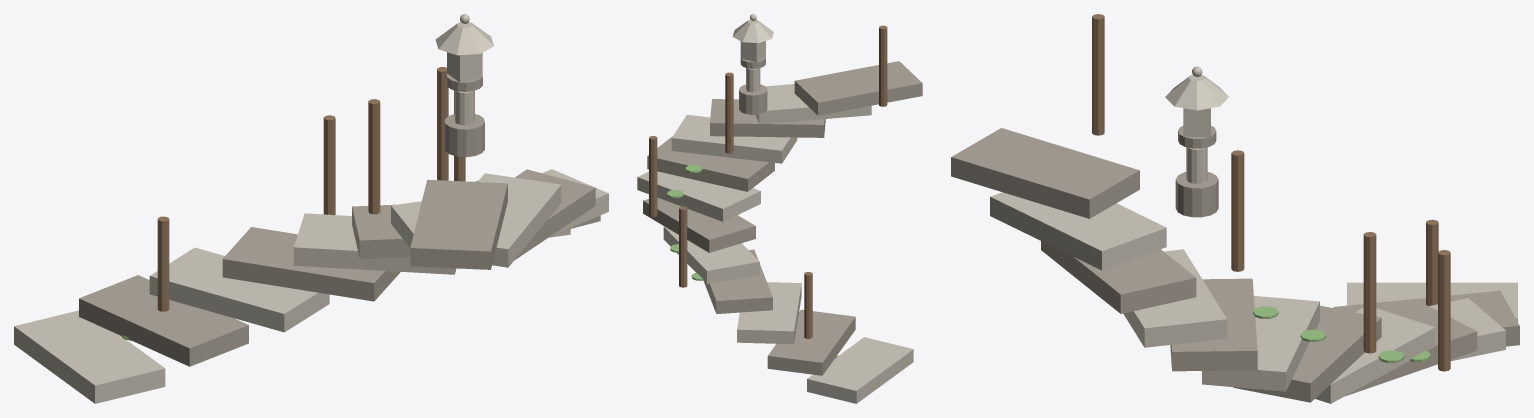
The model's file is stone_curve_steps.glb.
The picture shows the model from 3 angles, left to right: view 1: azimuth 30°, elevation 25°; view 2: azimuth 150°, elevation 25°; view 3: azimuth 270°, elevation 25°; orthographic projection. The views are drawn at different scales.
Visible parts, largest first — view 1: stone_curve_steps; view 2: stone_curve_steps; view 3: stone_curve_steps.
Boxes of the visible parts, <box> form: stone_curve_steps: <box>14,14,608,403</box>; stone_curve_steps: <box>637,14,922,403</box>; stone_curve_steps: <box>951,14,1519,403</box>.
Bounding box in the file's own units: 2.4 × 2 × 2.66.
